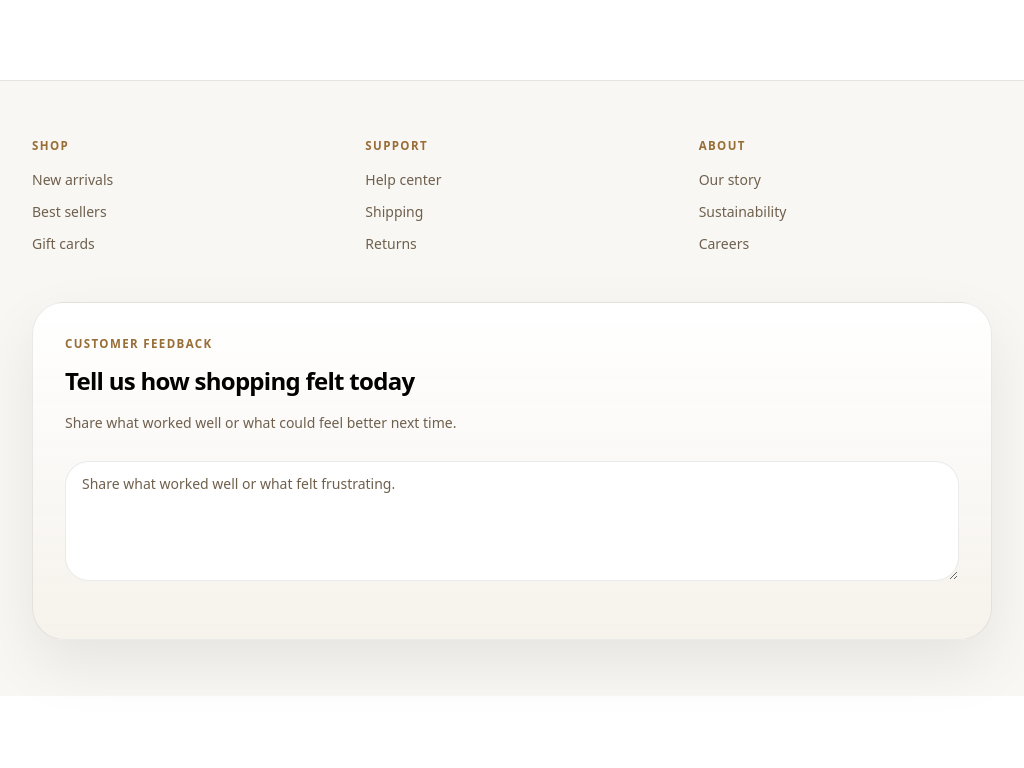
SiteFooter › shows the send feedback button only after text is entered
Expected: the button "send feedback" is not shown
Type "I found what I wanted quickly." into the text box named "Feedback" at (512, 520), box [65,460,959,580]
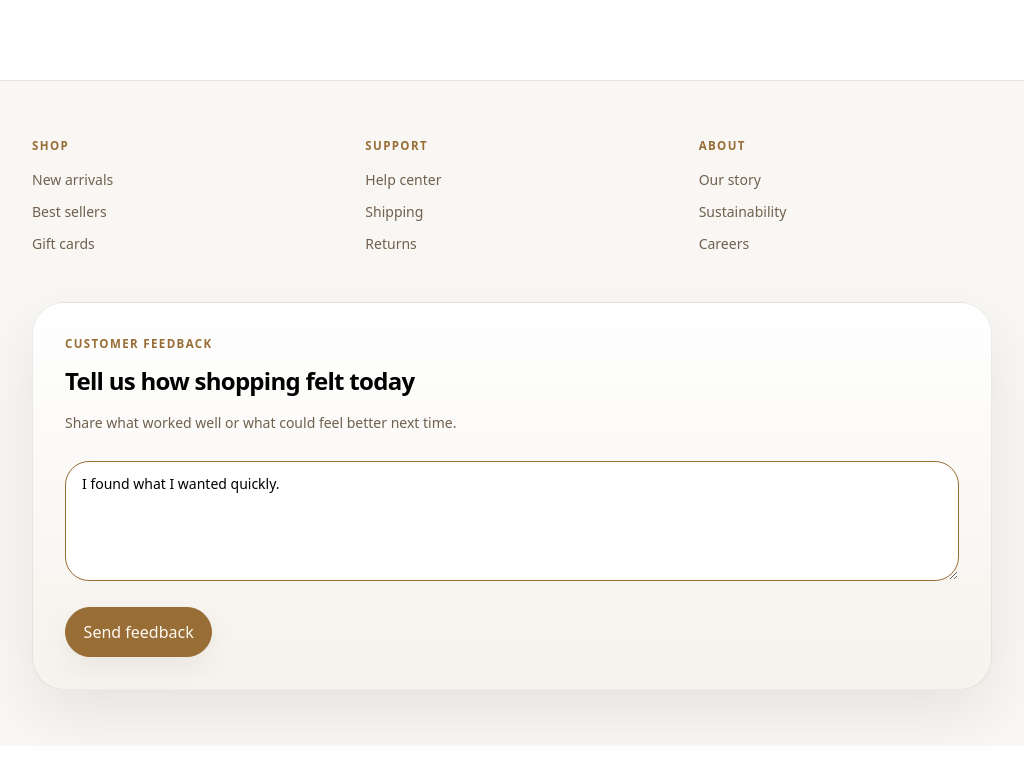
Expected: the button "Send feedback" is shown
Click the button "Send feedback" at (139, 632), box [65,606,212,656]
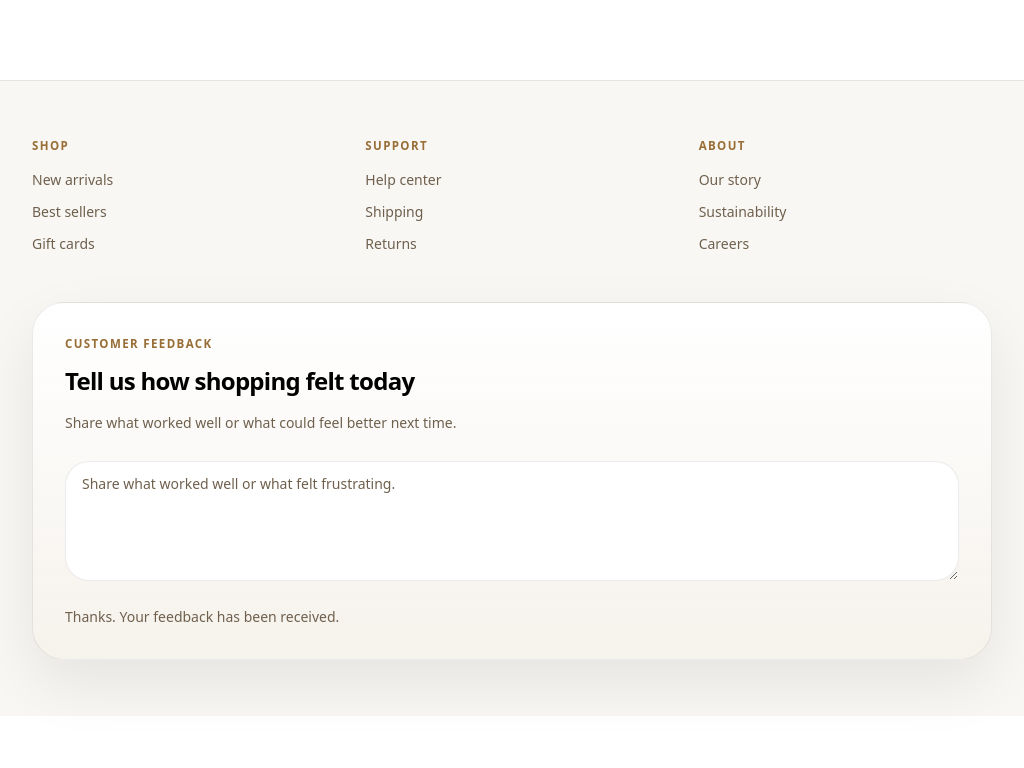
Expected: the text box named "Feedback" is empty, [65,460,959,580]
Expected: the button "Send feedback" is gone
Expected: the text "Thanks. Your feedback has been received." is shown, [65,606,339,626]
